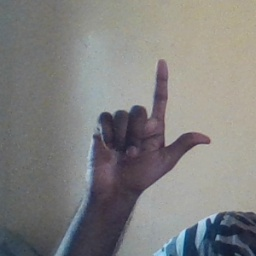L: (85, 58, 214, 195)
